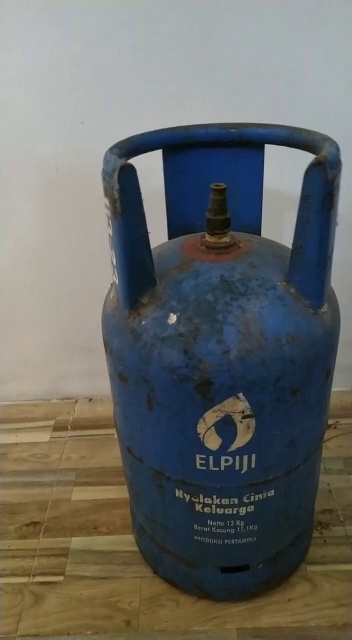blue_gas: (103, 121, 344, 601)
